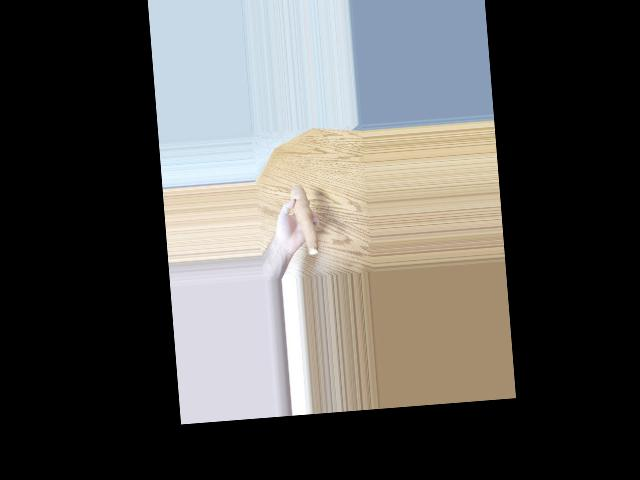sweet_potato: (292, 179, 319, 253)
